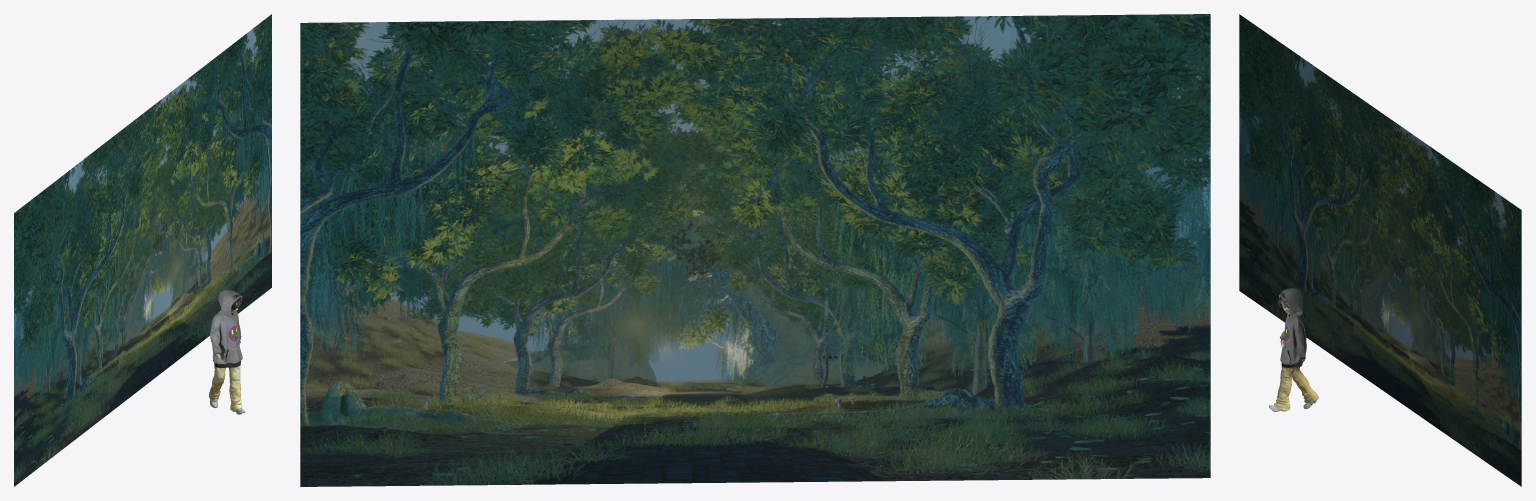
The model's file is shiloh03.glb.
The picture shows the model from 3 angles, left to right: view 1: azimuth 30°, elevation 25°; view 2: azimuth 150°, elevation 25°; view 3: azimuth 270°, elevation 25°; orthographic projection. The views are drawn at different scales.
Parts seen in each view (by area): view 1: forest still, hoodie sleeves and back, pants, hoodie front; view 2: forest still; view 3: forest still, hoodie sleeves and back, pants, hoodie front.
Part boxes in pixels (box(x1,y1,x2,y2)): forest still: box(14, 14, 271, 486); hoodie sleeves and back: box(210, 289, 242, 363); pants: box(209, 365, 242, 410); hoodie front: box(214, 311, 239, 364); forest still: box(300, 14, 1210, 486); forest still: box(1239, 14, 1521, 486); hoodie sleeves and back: box(1279, 288, 1306, 364); pants: box(1274, 366, 1318, 410); hoodie front: box(1283, 315, 1299, 364).
Size of what is drawn, in the model's own units: 6.02 by 3.99 by 3.66.
14 materials, 11 textured.
